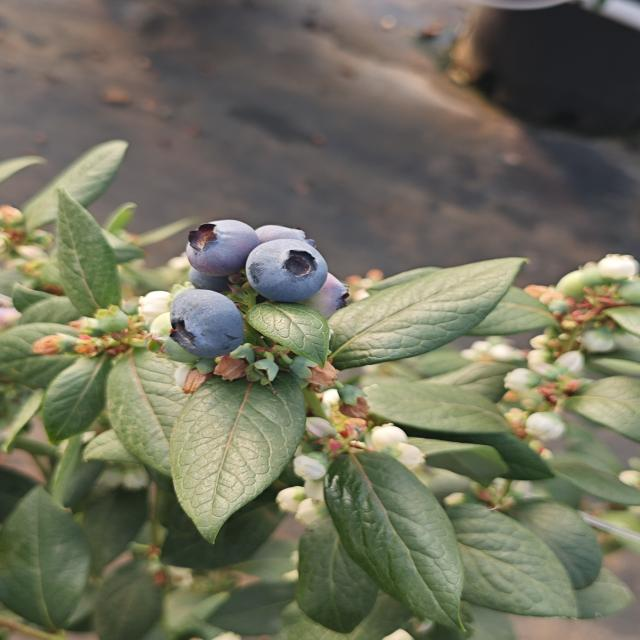ripe: (165, 288, 247, 360), (242, 237, 330, 304), (182, 218, 260, 278), (254, 210, 324, 256)
